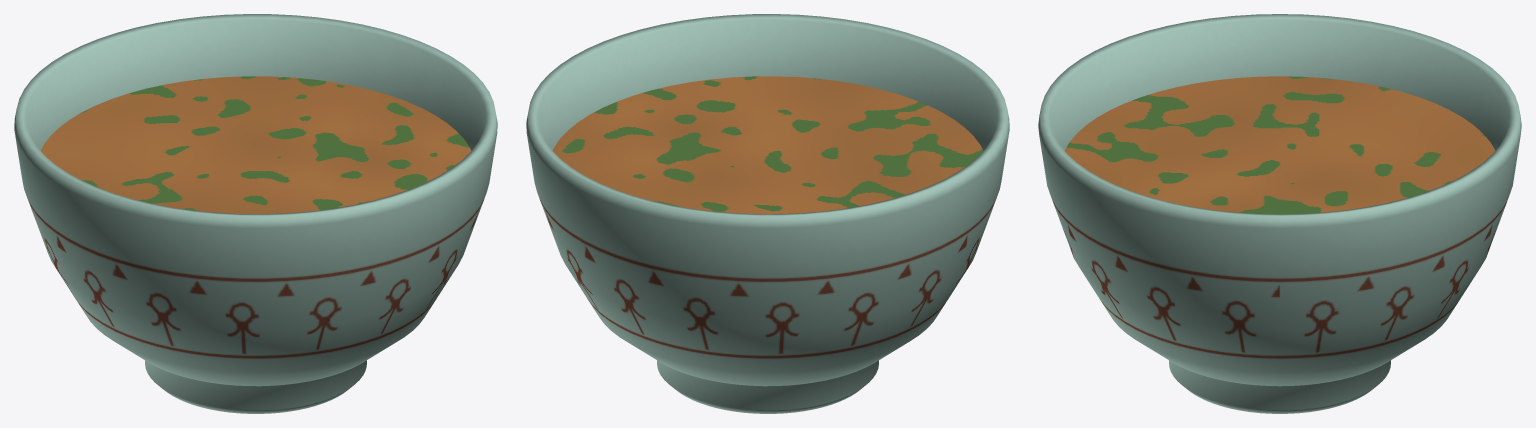
Rendered from z3_tazon_sopa.obj.
The picture shows the model from 3 angles, left to right: view 1: azimuth 30°, elevation 25°; view 2: azimuth 150°, elevation 25°; view 3: azimuth 270°, elevation 25°; orthographic projection.
Parts seen in each view (by area): view 1: tazon_sopa; view 2: tazon_sopa; view 3: tazon_sopa.
Part boxes in pixels (x1,y1,x2,y2): tazon_sopa: [14, 14, 497, 413]; tazon_sopa: [526, 14, 1009, 413]; tazon_sopa: [1038, 14, 1521, 413].
Size of the model in its own units: 0.122 by 0.071 by 0.122.
Materials: 2 (2 with a texture image).
